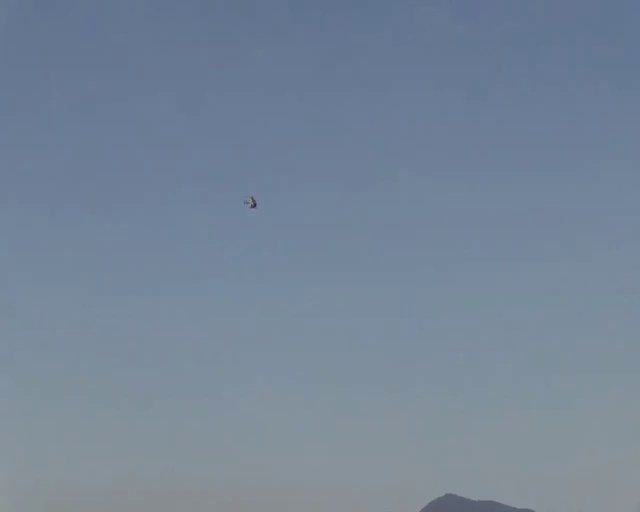HELICOPTER: (244, 195, 257, 208)
